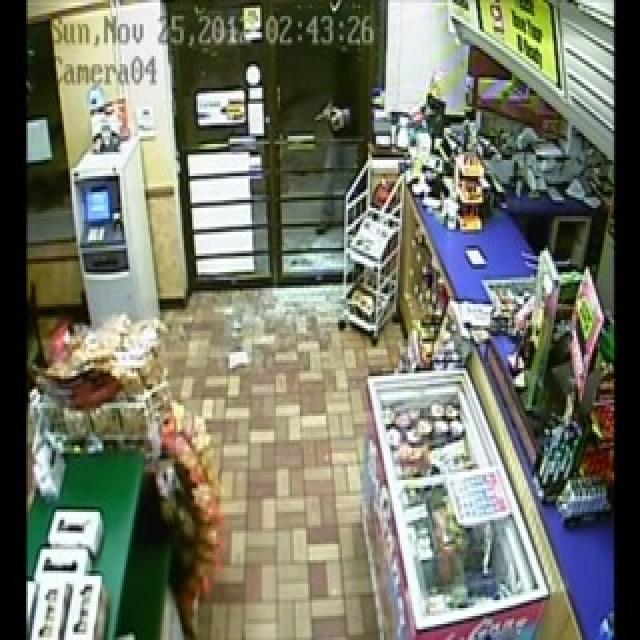thief: (308, 70, 365, 230)
